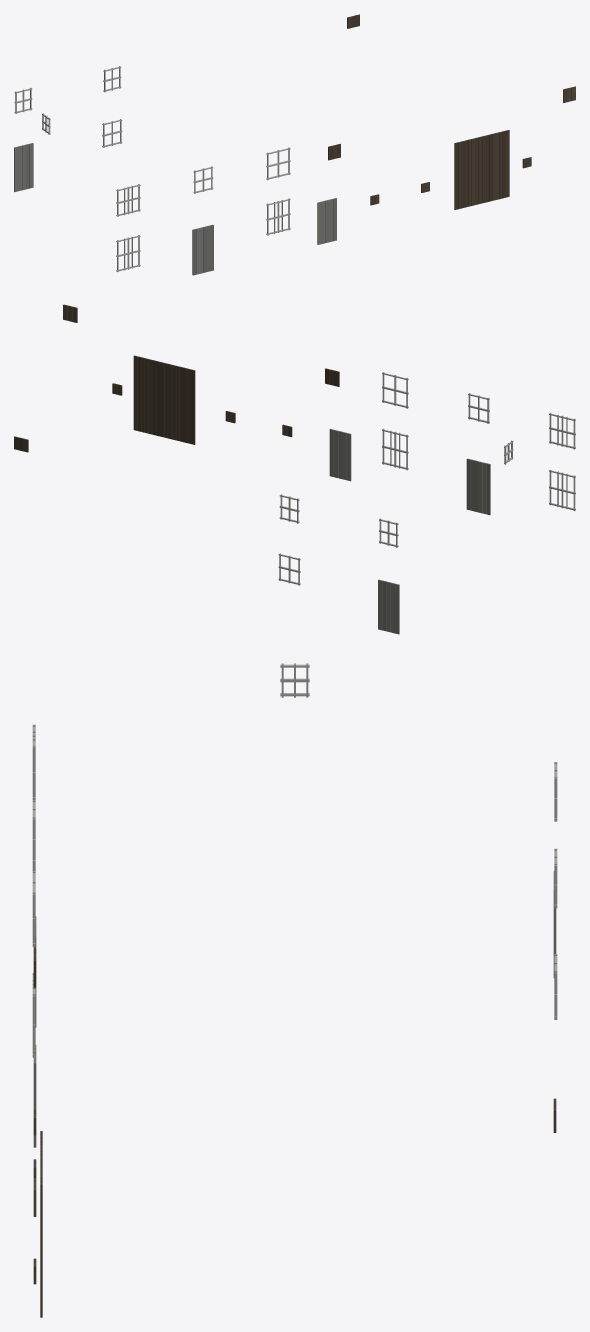
Rendered from SM_Bld_219_Wood.glb.
The picture shows the model from 3 angles, top to bottom: view 1: azimuth 30°, elevation 25°; view 2: azimuth 150°, elevation 25°; view 3: azimuth 270°, elevation 25°; orthographic projection. The views are drawn at different scales.
Parts seen in each view (by area): view 1: SM_Bld_219_Wood; view 2: SM_Bld_219_Wood; view 3: SM_Bld_219_Wood.
Part boxes in pixels (left/top/right/bottom): SM_Bld_219_Wood: left=14, top=14, right=575, bottom=275; SM_Bld_219_Wood: left=14, top=304, right=575, bottom=634; SM_Bld_219_Wood: left=32, top=663, right=557, bottom=1317.
Bounding box in the file's own units: 21.96 × 5.95 × 10.73.
